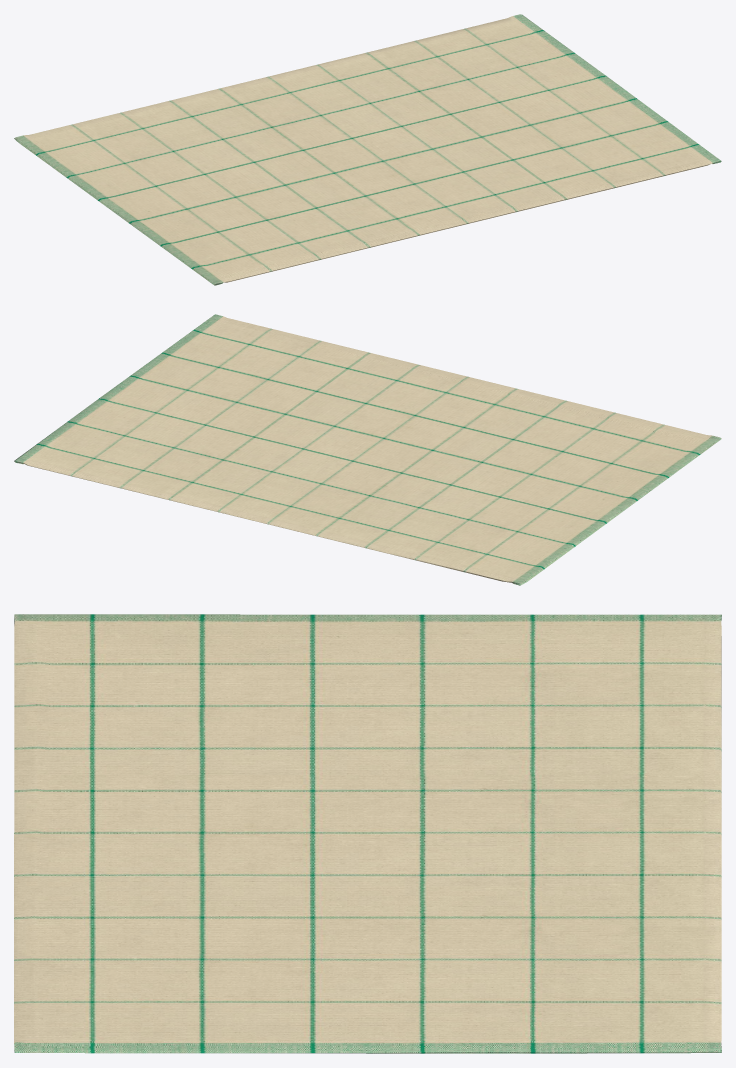
3 views of the same model, one above another, from view 1: azimuth 30°, elevation 25°; view 2: azimuth 150°, elevation 25°; view 3: azimuth 270°, elevation 25° (orthographic). The views are drawn at different scales.
Visible parts, largest first — view 1: ASY_ART_60600966_S01_NV01; view 2: ASY_ART_60600966_S01_NV01; view 3: ASY_ART_60600966_S01_NV01.
Boxes of the visible parts, x1,y1,x2,y2 form: ASY_ART_60600966_S01_NV01: (14,14,721,285); ASY_ART_60600966_S01_NV01: (14,314,721,585); ASY_ART_60600966_S01_NV01: (14,614,721,1053).
Bounding box in the file's own units: 1.95 × 0.0086 × 1.33.
1 material, 1 textured.
